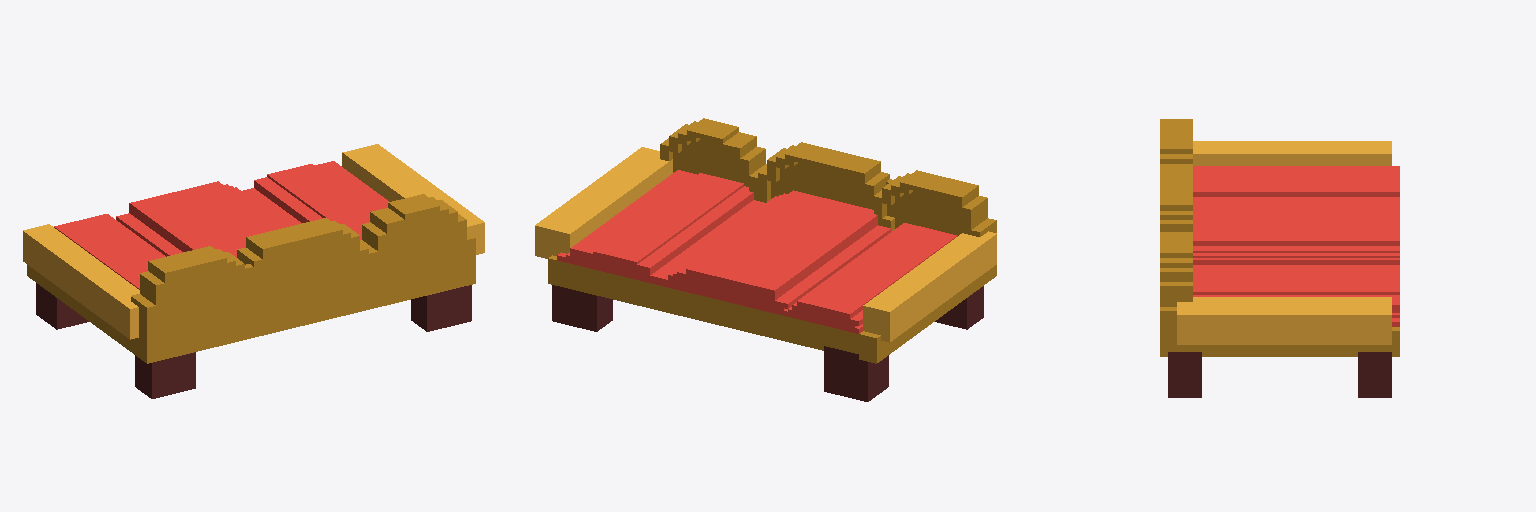
3 views of the same model, side by side, from view 1: azimuth 30°, elevation 25°; view 2: azimuth 150°, elevation 25°; view 3: azimuth 270°, elevation 25° (orthographic).
Visible parts, largest first — view 1: sillon_voxel; view 2: sillon_voxel; view 3: sillon_voxel.
Boxes of the visible parts, x1=… form: sillon_voxel: x1=23, y1=144, x2=484, y2=398; sillon_voxel: x1=535, y1=118, x2=996, y2=401; sillon_voxel: x1=1160, y1=119, x2=1399, y2=397.
Bounding box in the file's own units: 50.23 × 17.17 × 29.34.
1 materials, 1 textured.